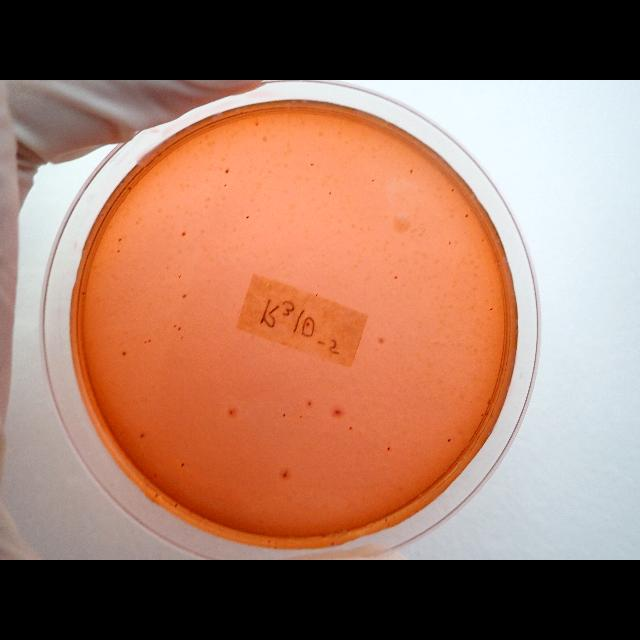colony: (226, 407, 236, 417), (334, 408, 342, 416), (281, 470, 289, 478), (378, 336, 384, 346), (138, 432, 146, 438), (180, 293, 188, 299), (224, 168, 230, 174), (180, 462, 186, 468), (154, 492, 160, 498), (386, 446, 392, 452), (488, 306, 494, 312), (116, 249, 122, 253), (82, 291, 86, 297), (148, 338, 152, 344), (178, 326, 182, 332), (154, 472, 158, 478), (174, 502, 178, 508), (267, 538, 271, 544), (330, 541, 334, 547), (348, 426, 354, 430), (447, 240, 451, 246), (464, 214, 470, 218), (410, 168, 414, 174), (328, 190, 332, 196), (282, 412, 286, 418), (315, 292, 319, 298), (178, 273, 182, 279), (128, 186, 132, 190), (182, 232, 186, 236), (118, 238, 122, 242), (122, 352, 126, 356), (144, 340, 148, 344), (173, 324, 177, 328), (180, 336, 184, 340), (384, 518, 388, 522), (447, 438, 451, 442), (308, 402, 312, 406), (451, 188, 455, 192), (371, 179, 375, 183), (310, 162, 314, 166), (394, 275, 398, 279), (481, 412, 484, 416), (244, 216, 250, 218), (224, 184, 228, 186), (388, 523, 390, 527), (300, 414, 302, 418), (256, 122, 258, 126)
